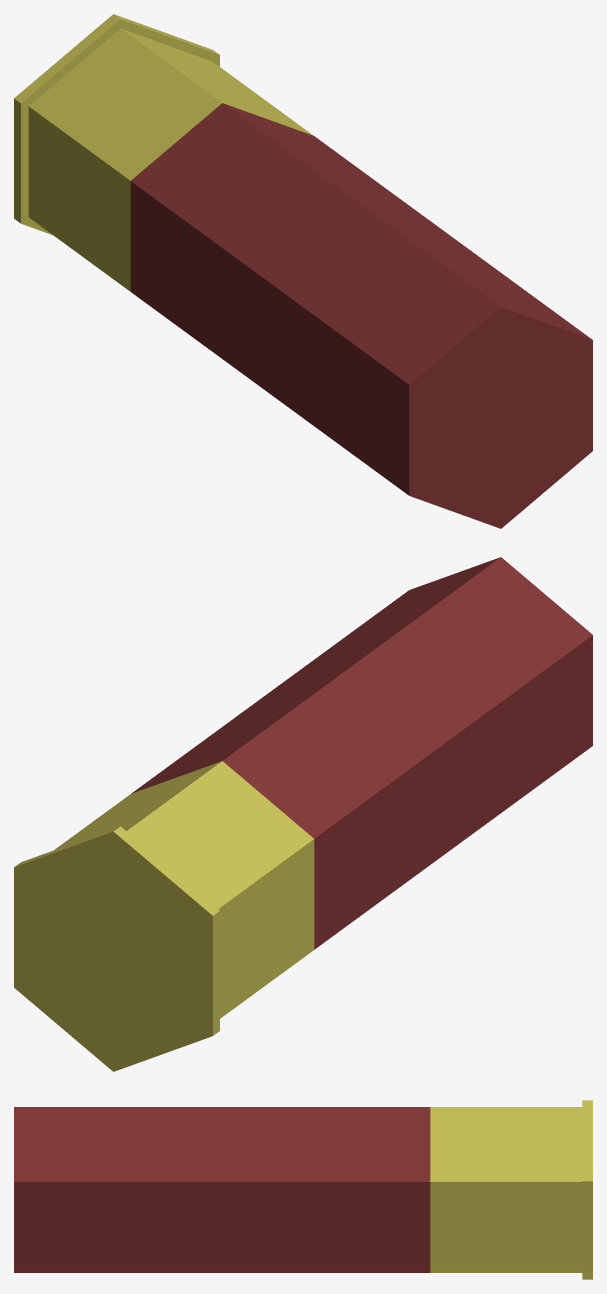
File: 12gauge.fbx
3 renders of one model, top to bottom at view 1: azimuth 30°, elevation 25°; view 2: azimuth 150°, elevation 25°; view 3: azimuth 270°, elevation 25°, orthographic. The views are drawn at different scales.
Parts seen in each view (by area): view 1: 12gauge; view 2: 12gauge; view 3: 12gauge.
Part boxes in pixels (x1,y1,x2,y2): 12gauge: (14, 14, 592, 528); 12gauge: (14, 557, 592, 1071); 12gauge: (14, 1100, 592, 1279).
Size of the model in its own units: 1.04 by 1.2 by 3.5.
Materials: 1 (1 with a texture image).
